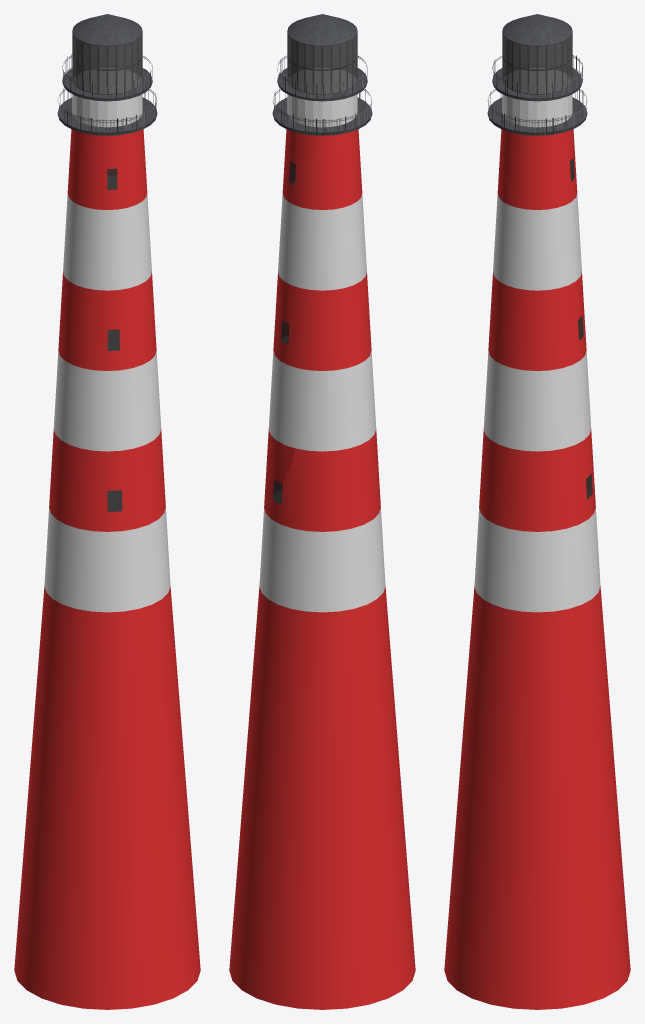
File: lighthouse.FBX
The picture shows the model from 3 angles, left to right: view 1: azimuth 30°, elevation 25°; view 2: azimuth 150°, elevation 25°; view 3: azimuth 270°, elevation 25°; orthographic projection.
Parts seen in each view (by area): view 1: lighthouse, Component#1_001, Component#1_002; view 2: lighthouse, Component#1_001, Component#1_002; view 3: lighthouse, Component#1_001, Component#1_002.
Boxes of the visible parts, x1,y1,x2,y2 form: lighthouse: (14,14,200,1009); Component#1_001: (57,88,157,133); Component#1_002: (62,54,152,98); lighthouse: (229,14,415,1009); Component#1_001: (272,88,372,133); Component#1_002: (277,56,367,99); lighthouse: (444,14,630,1009); Component#1_001: (487,88,587,133); Component#1_002: (492,55,583,98).
Size of the model in its own units: 526 by 526 by 2980.
7 materials, 2 textured.
